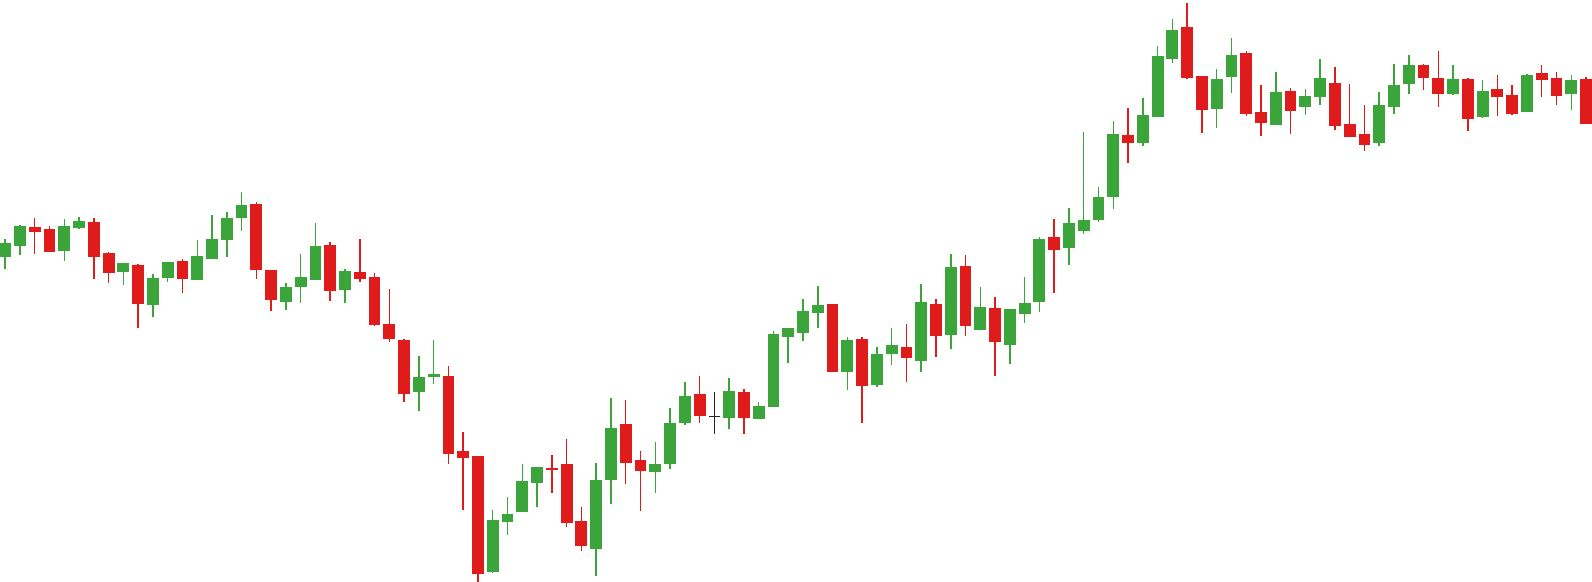sell: (70, 194, 263, 263)
